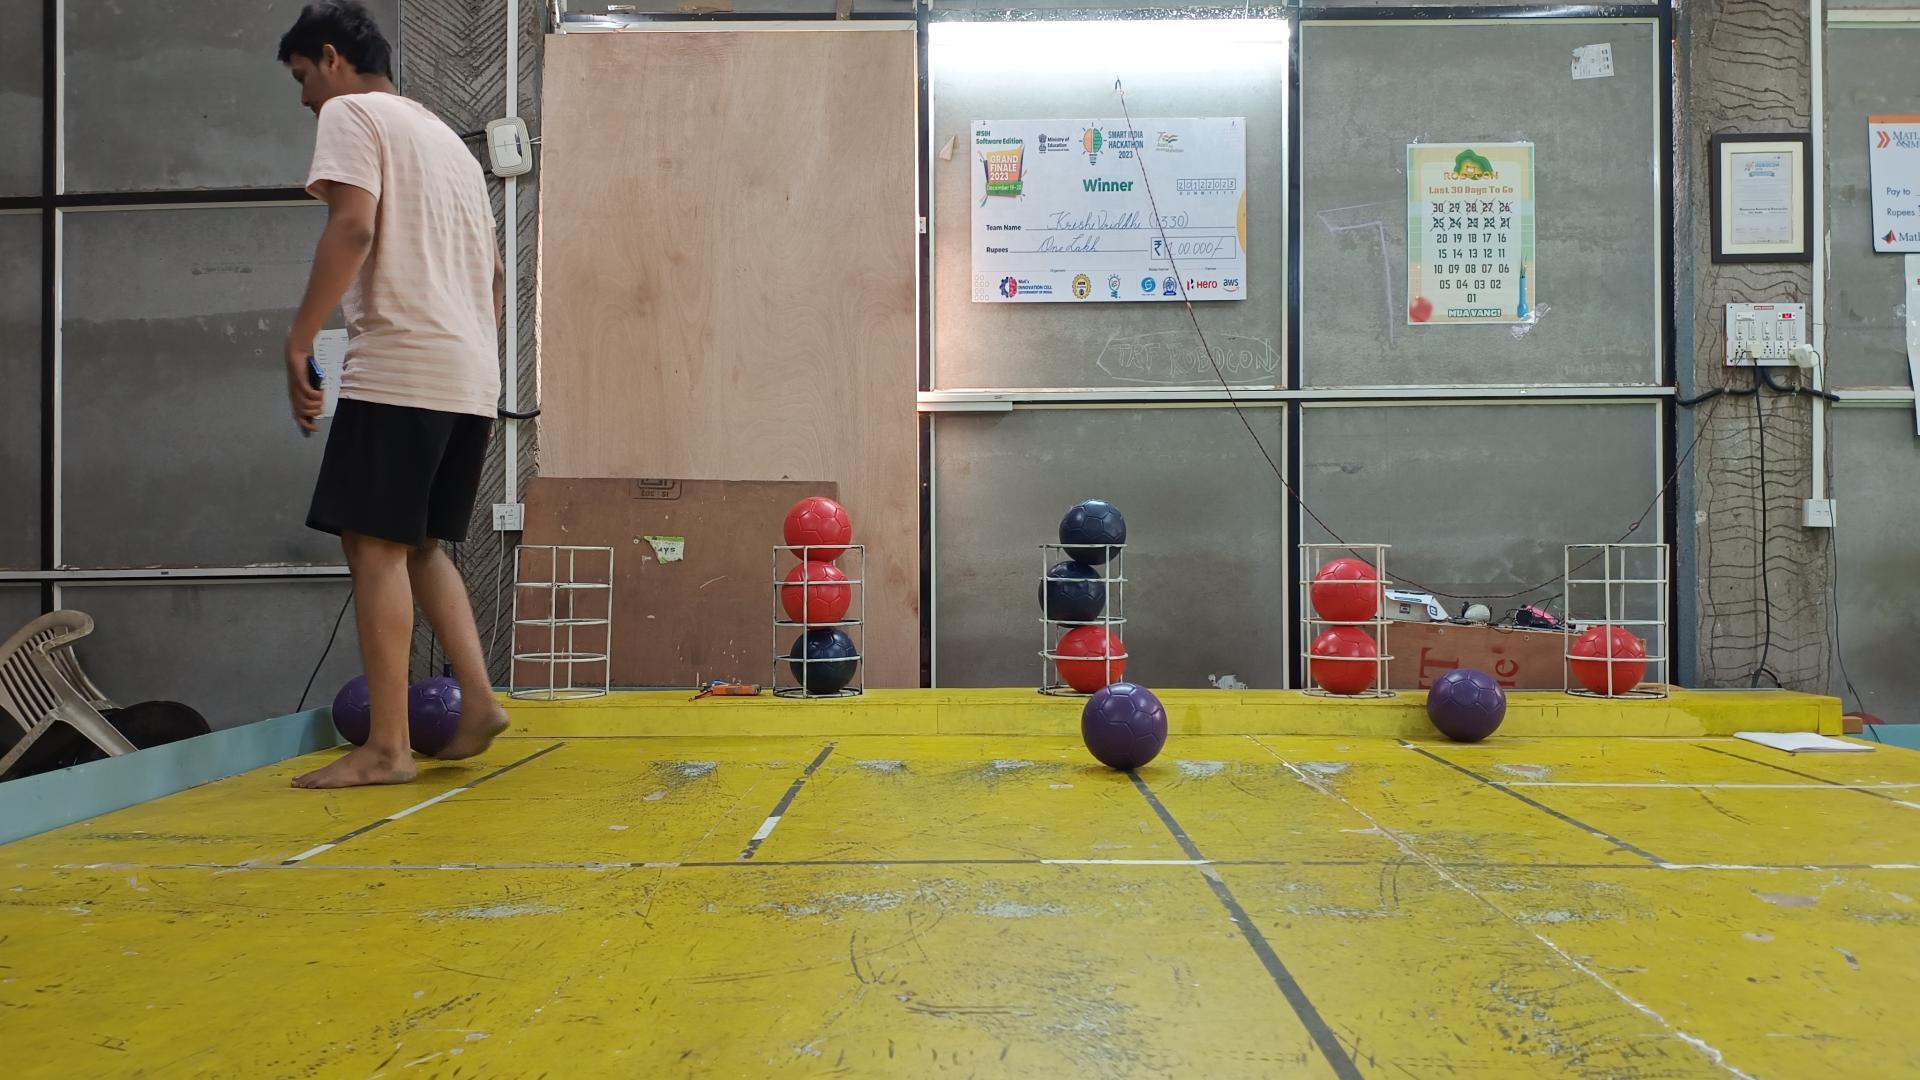dhoka: (790, 628, 857, 696), (1060, 501, 1127, 564), (1040, 562, 1105, 622)
laale: (1571, 626, 1646, 698), (1056, 625, 1127, 692), (1311, 625, 1378, 696), (779, 562, 855, 625), (783, 497, 855, 560), (1312, 559, 1379, 622)
